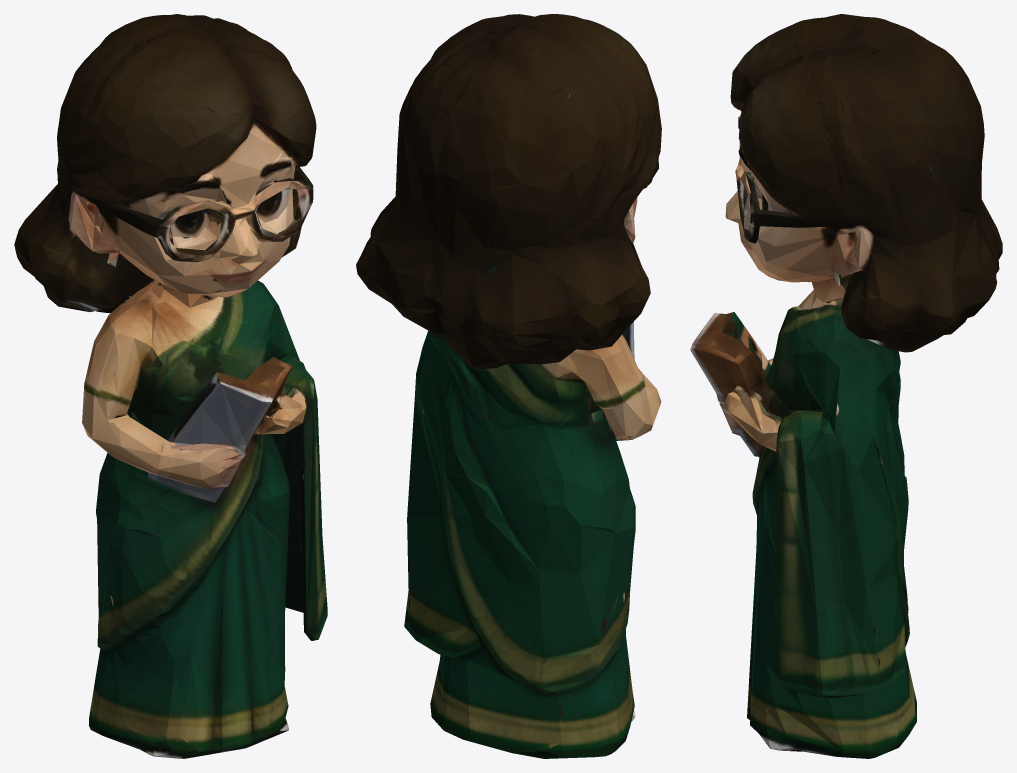
The model's file is npc_woman_2.glb.
3 renders of one model, left to right at view 1: azimuth 30°, elevation 25°; view 2: azimuth 150°, elevation 25°; view 3: azimuth 270°, elevation 25°, orthographic. The views are drawn at different scales.
Visible parts, largest first — view 1: geometry_0; view 2: geometry_0; view 3: geometry_0.
Boxes of the visible parts, x1,y1,x2,y2 form: geometry_0: (14, 14, 327, 758); geometry_0: (356, 14, 661, 758); geometry_0: (690, 14, 1002, 758).
Size of the model in its own units: 0.8097 by 1.99 by 0.8172.
1 material, 1 textured.
